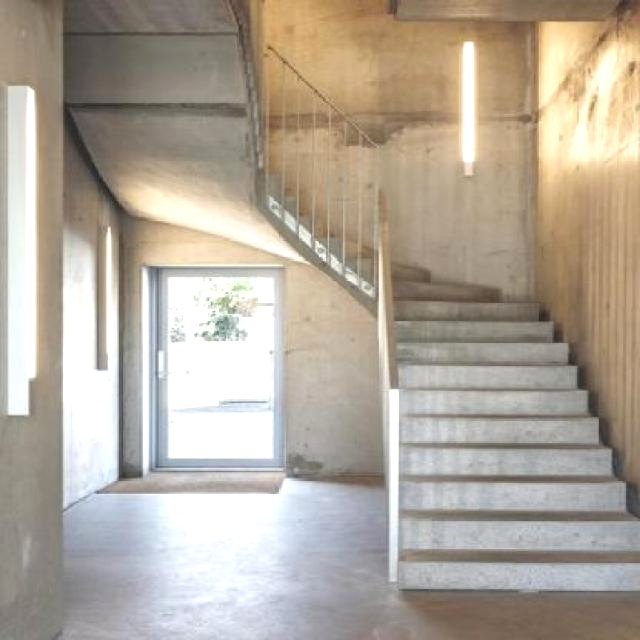stair: (269, 40, 640, 620)
